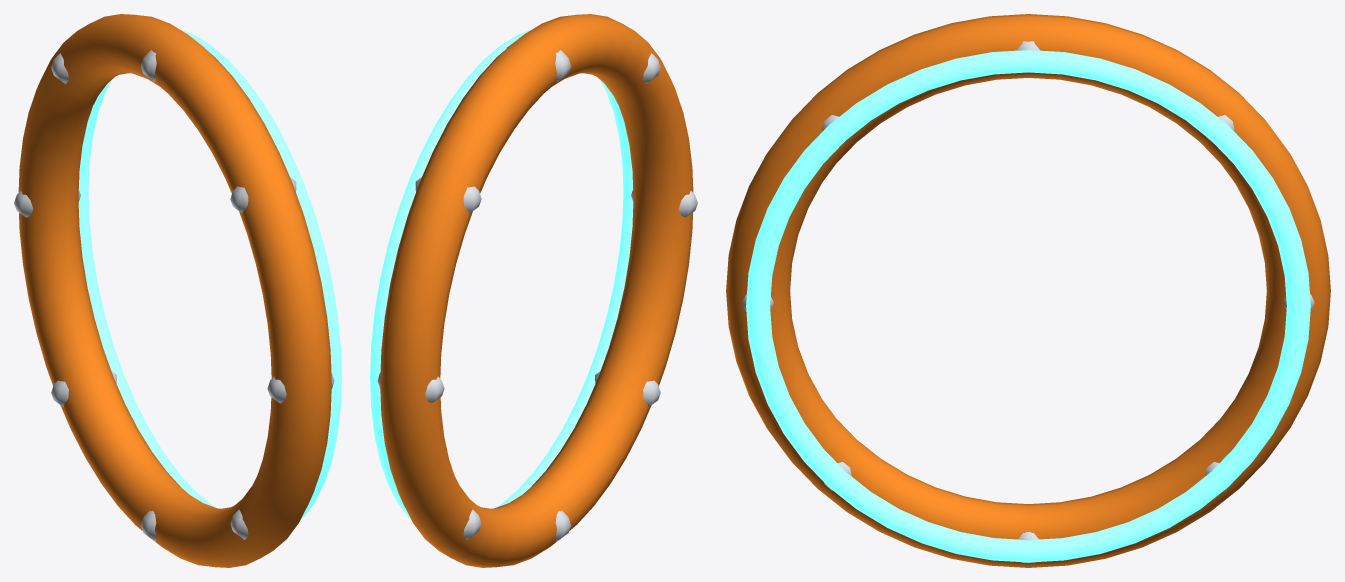
File: booster_ring.glb
3 views of the same model, side by side, from view 1: azimuth 30°, elevation 25°; view 2: azimuth 150°, elevation 25°; view 3: azimuth 270°, elevation 25° (orthographic). The views are drawn at different scales.
Visible parts, largest first — view 1: Body; view 2: Body; view 3: Body.
Boxes of the visible parts, box(x1,y1,x2,y2) form: Body: box(14, 14, 341, 567); Body: box(370, 14, 697, 567); Body: box(726, 14, 1330, 567).
Size of the model in its own units: 0.4302 by 3.02 by 3.02.
